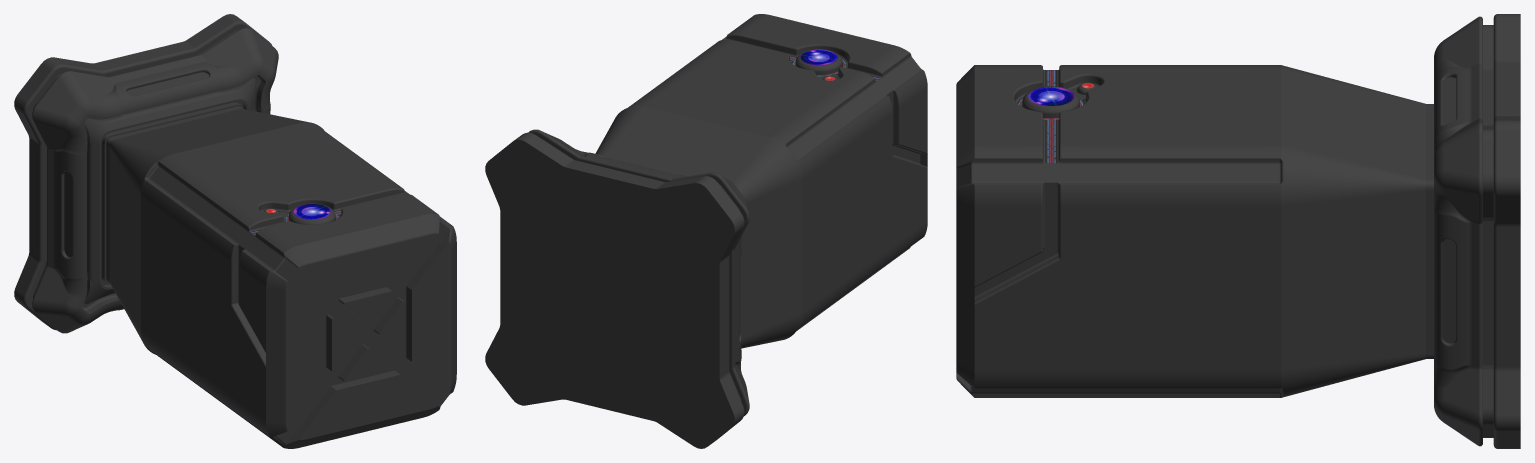
Rendered from Sharon Apple CPU.obj.
3 views of the same model, side by side, from view 1: azimuth 30°, elevation 25°; view 2: azimuth 150°, elevation 25°; view 3: azimuth 270°, elevation 25° (orthographic). The views are drawn at different scales.
Visible parts, largest first — view 1: Sharon_Apple_CPU; view 2: Sharon_Apple_CPU; view 3: Sharon_Apple_CPU.
Boxes of the visible parts, x1,y1,x2,y2 form: Sharon_Apple_CPU: [14, 14, 456, 448]; Sharon_Apple_CPU: [485, 14, 927, 448]; Sharon_Apple_CPU: [956, 14, 1520, 448].
Size of the model in its own units: 0.0565 by 0.0573 by 0.0901.
Materials: 4 (4 with a texture image).
